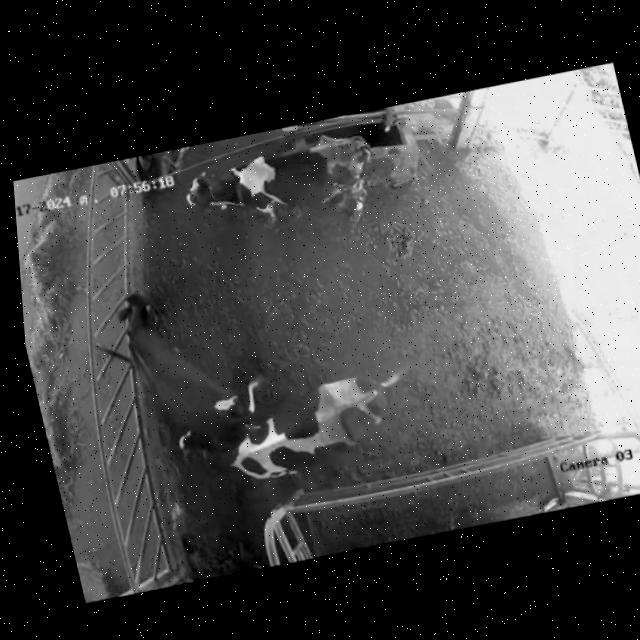stand: (164, 361, 436, 509), (169, 118, 406, 254), (104, 267, 263, 449)
